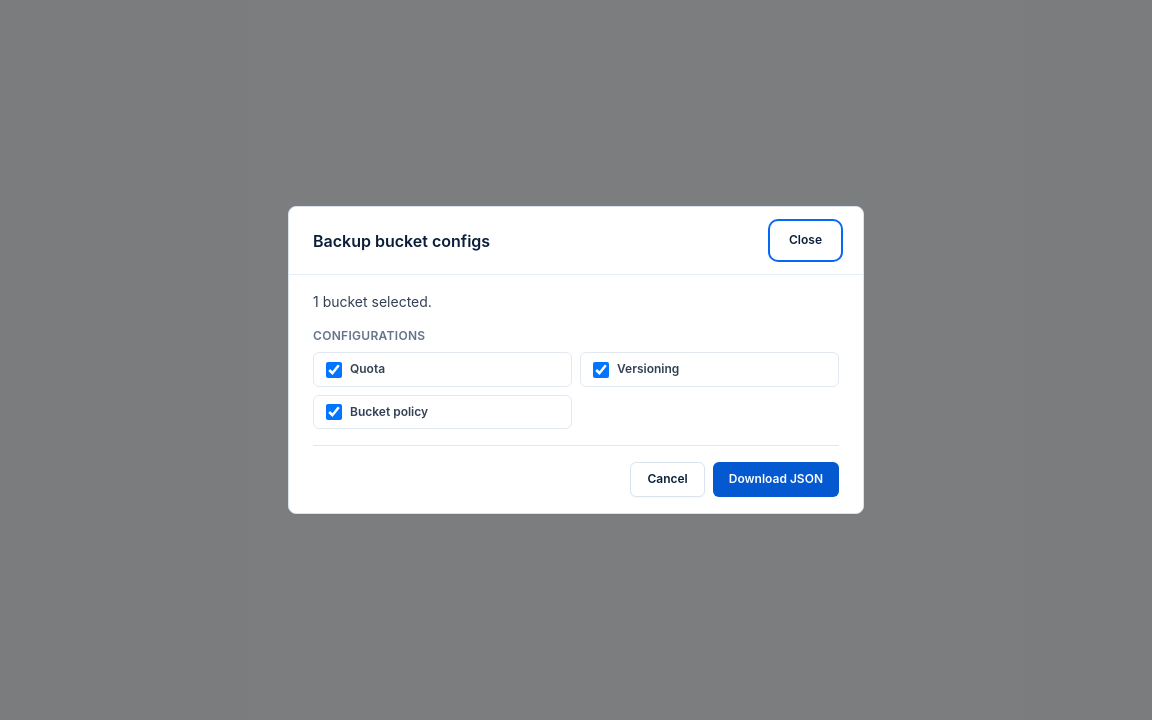
Test: BucketConfigBackupModal › shows a readable error when backup creation fails
Click the button "Download JSON" at [776, 480], box [713,462,839,497]
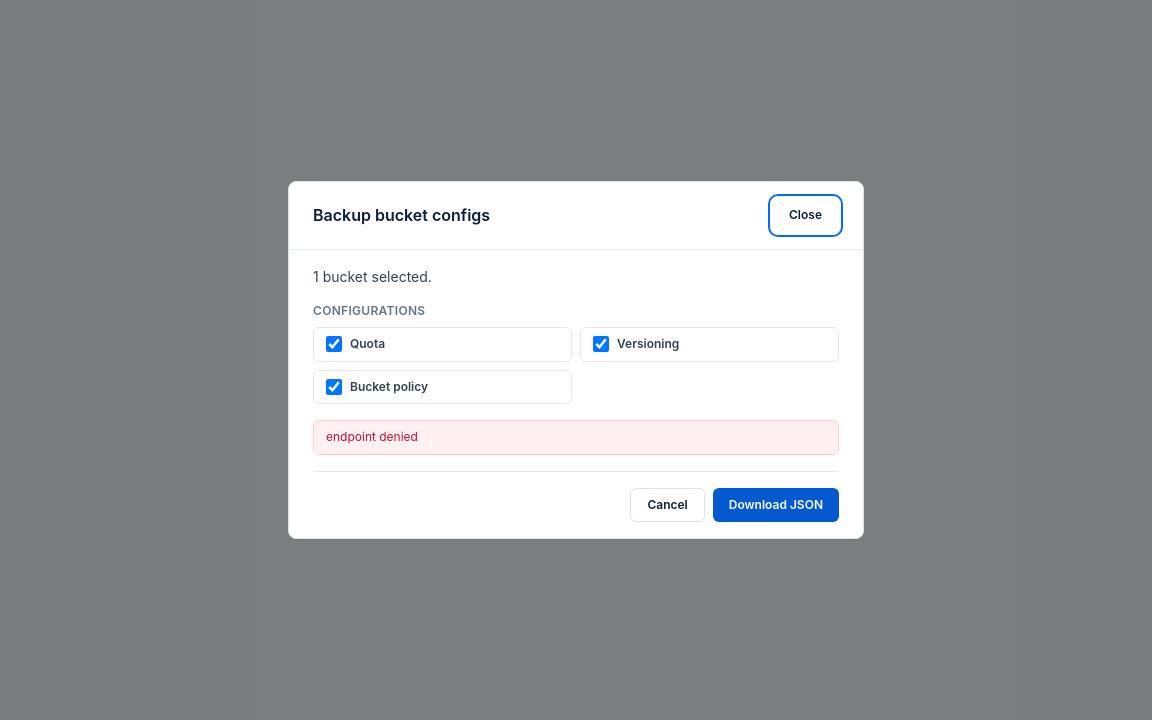
Result: the text "endpoint denied" is shown at [313,420,839,454]
